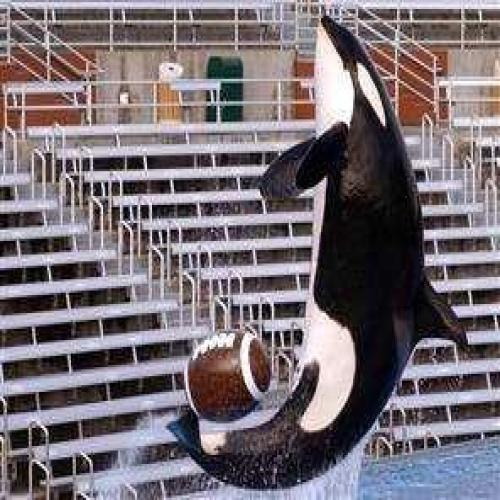killer_whale-endangered: (181, 13, 464, 481)
